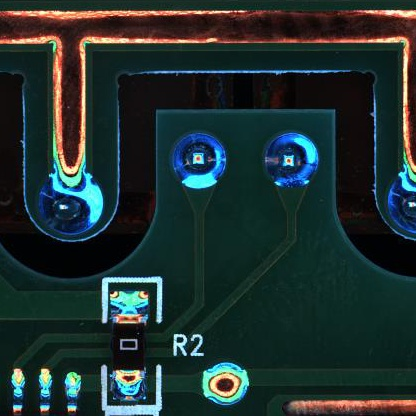spot: (37, 170, 104, 233), (259, 129, 321, 190), (169, 128, 228, 191), (198, 359, 250, 407)
